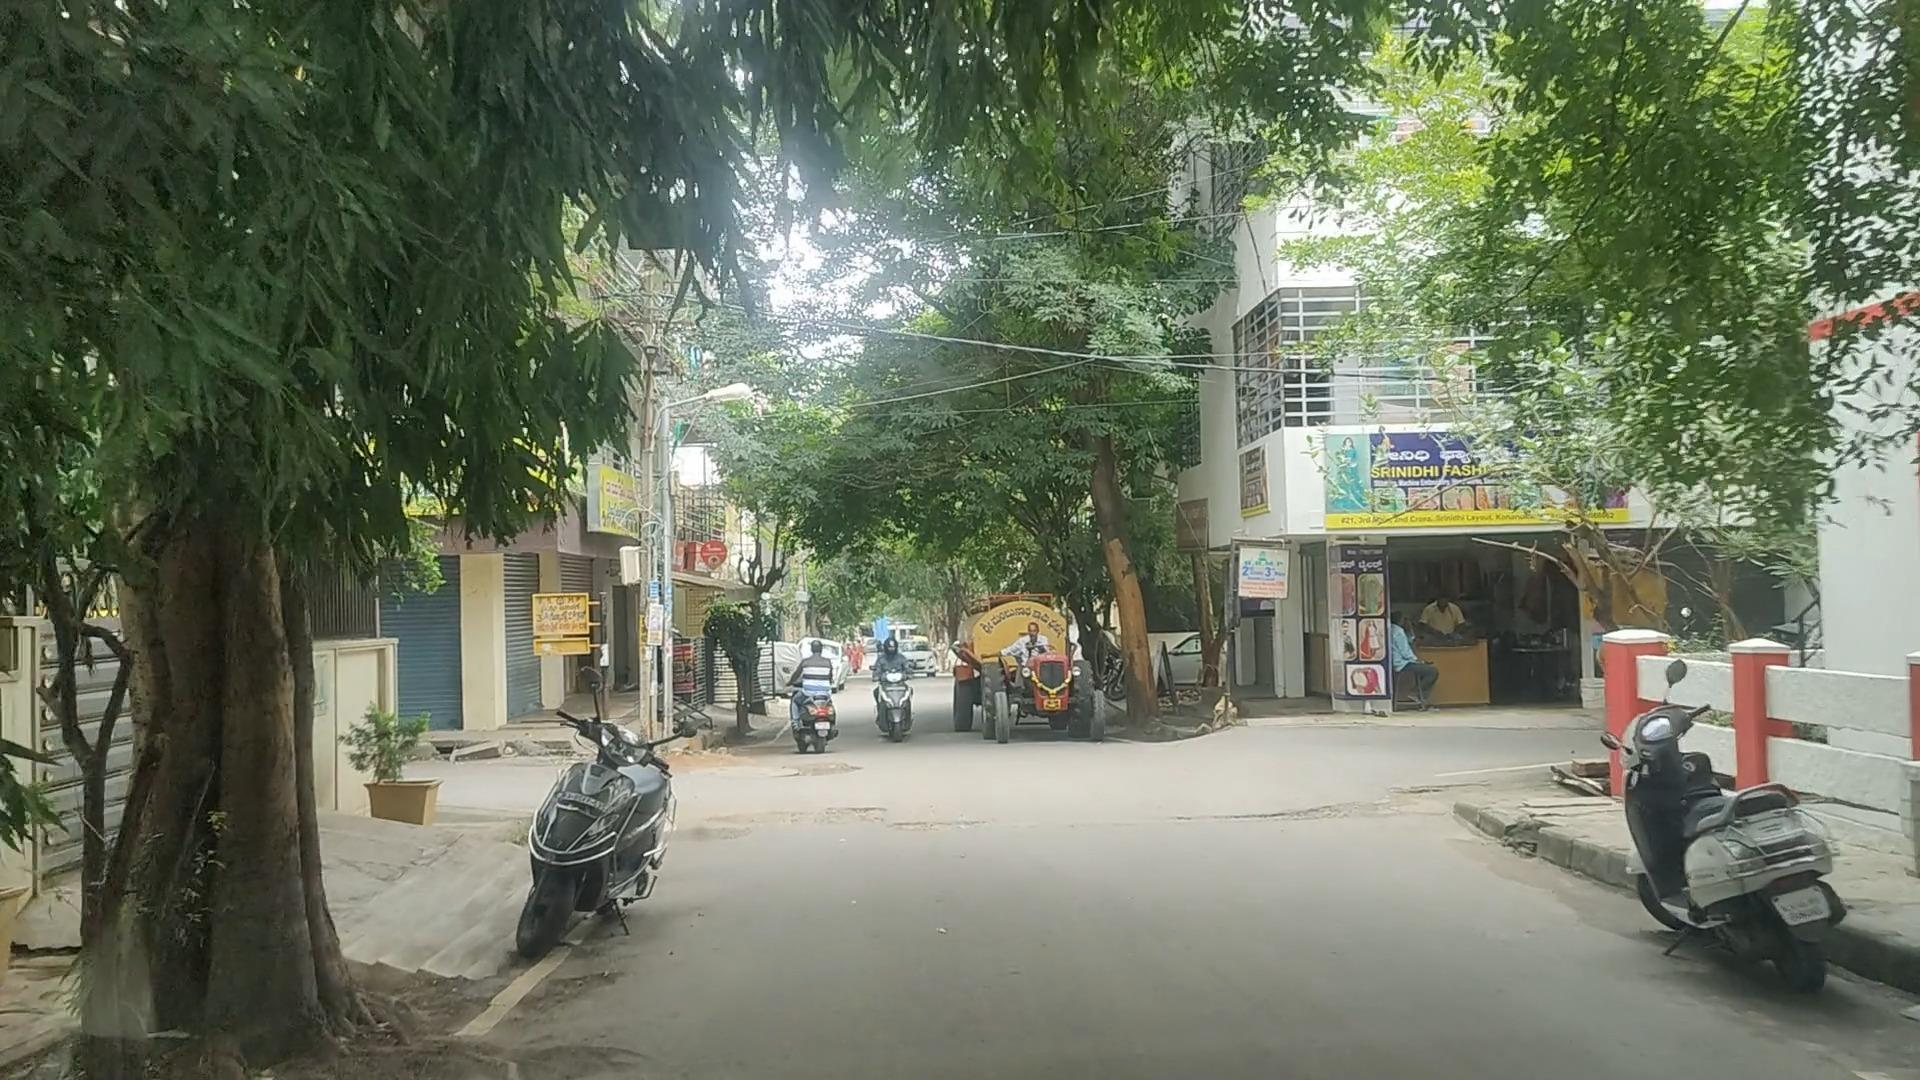HMV: (926, 575, 1116, 735)
LMV: (1584, 628, 1841, 1000), (521, 630, 703, 971), (786, 621, 865, 752)
RoadDamages: (773, 783, 996, 852), (1142, 781, 1433, 832)
